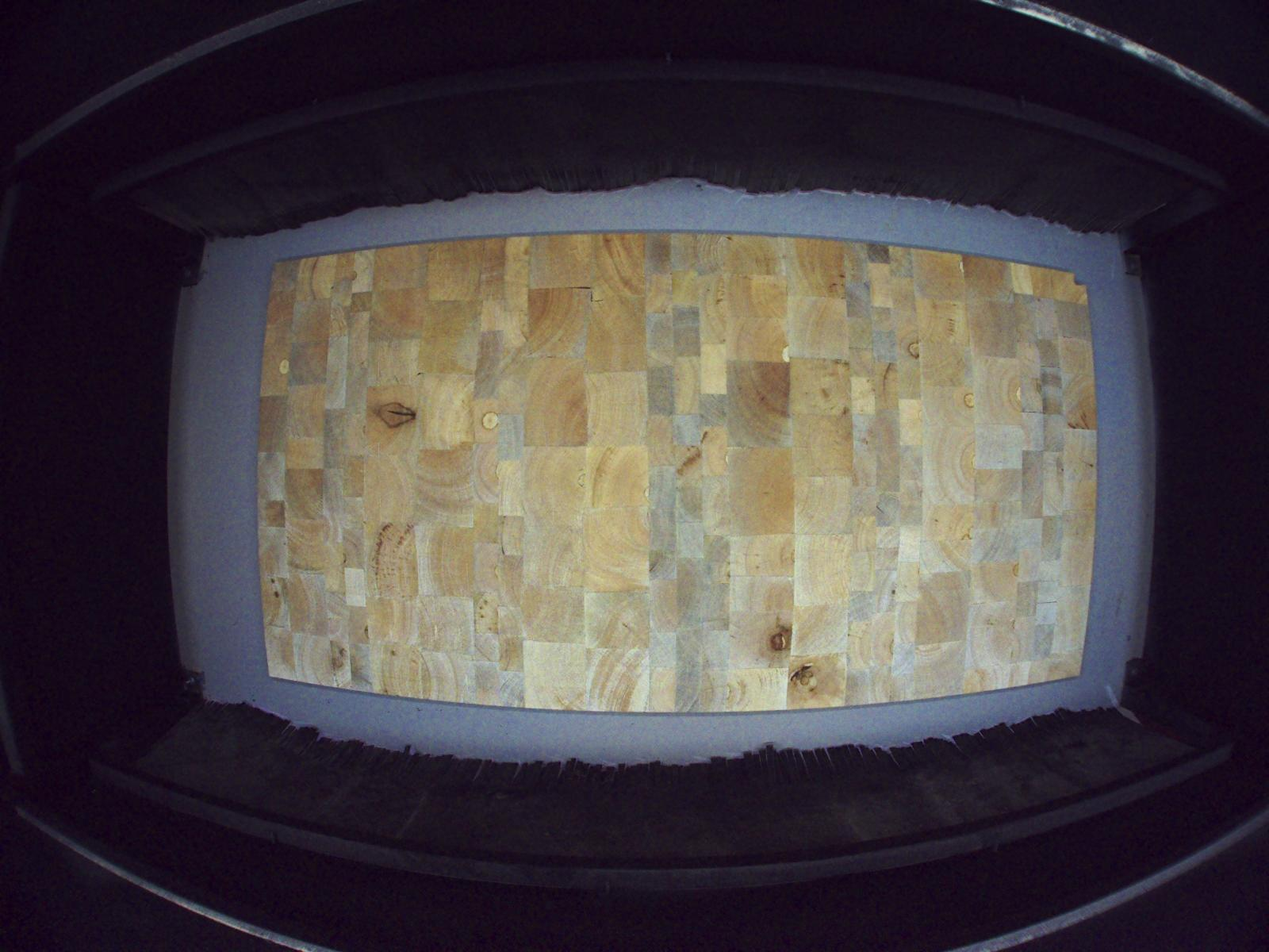nudillo: (788, 659, 827, 701), (756, 615, 791, 657)
